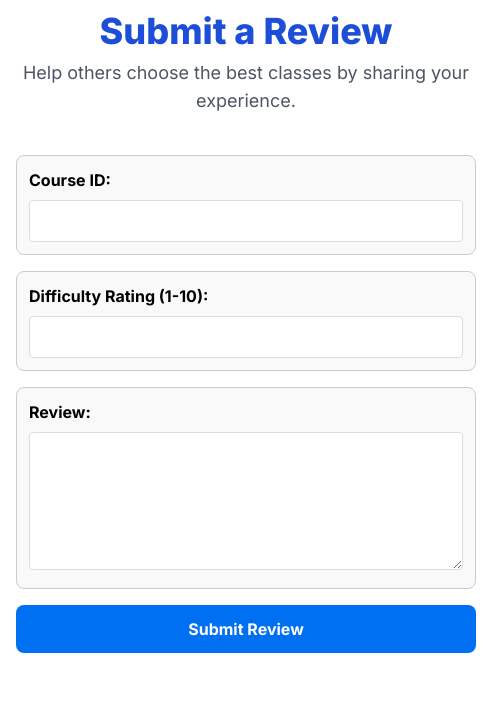
ReviewForm › submits successfully and resets form
Type "CS180" into the field labelled "Course ID:" at {"x": 246, "y": 221}, box [29,200,463,242]
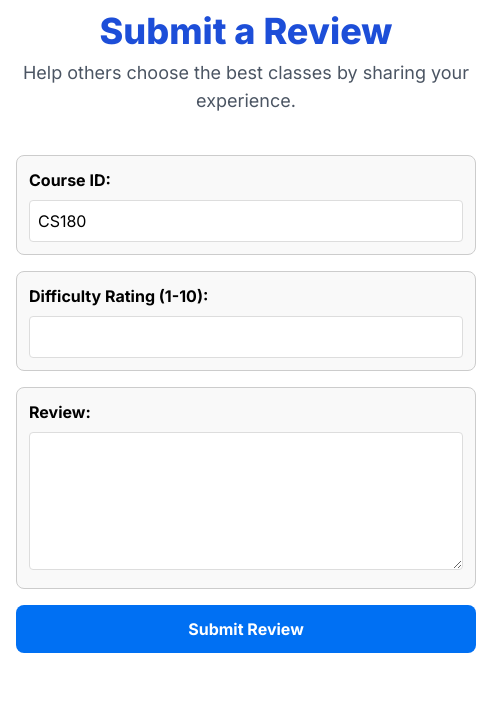
Type "5" into the number field labelled "Difficulty Rating (1-10):" at {"x": 246, "y": 337}, box [29,316,463,358]
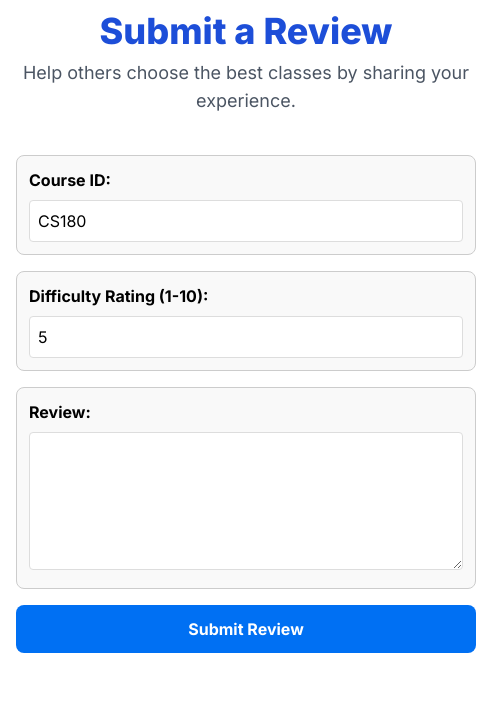
Type "Awesome class!" into the text box labelled "Review:" at {"x": 246, "y": 501}, box [29,432,463,570]
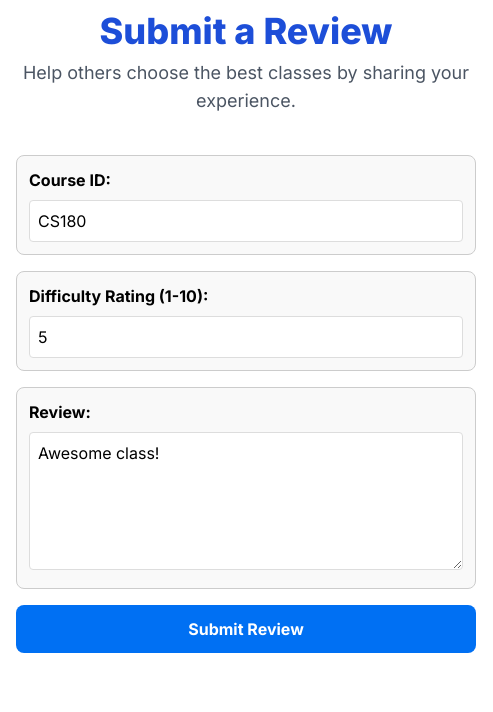
Click the button "Submit Review" at {"x": 246, "y": 629}, box [16,605,476,653]
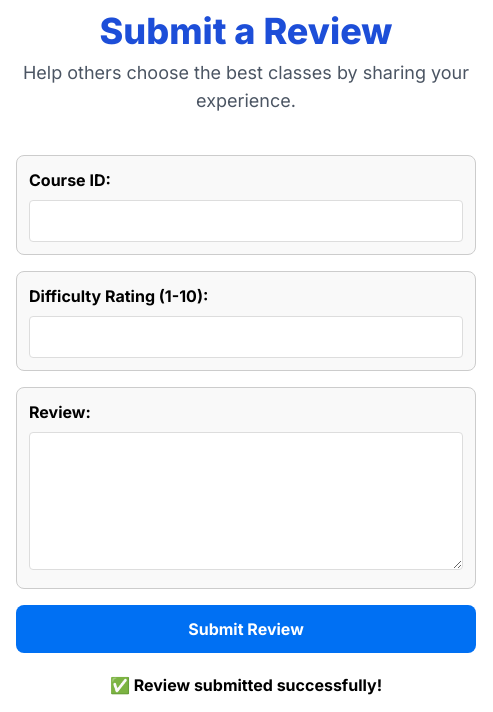
Now the text "✅ Review submitted successfully!" is shown, box [110,675,382,695]
Now the field labelled "Course ID:" is empty, box [29,200,463,242]
Now the number field labelled "Difficulty Rating (1-10):" is not empty, box [29,316,463,358]
